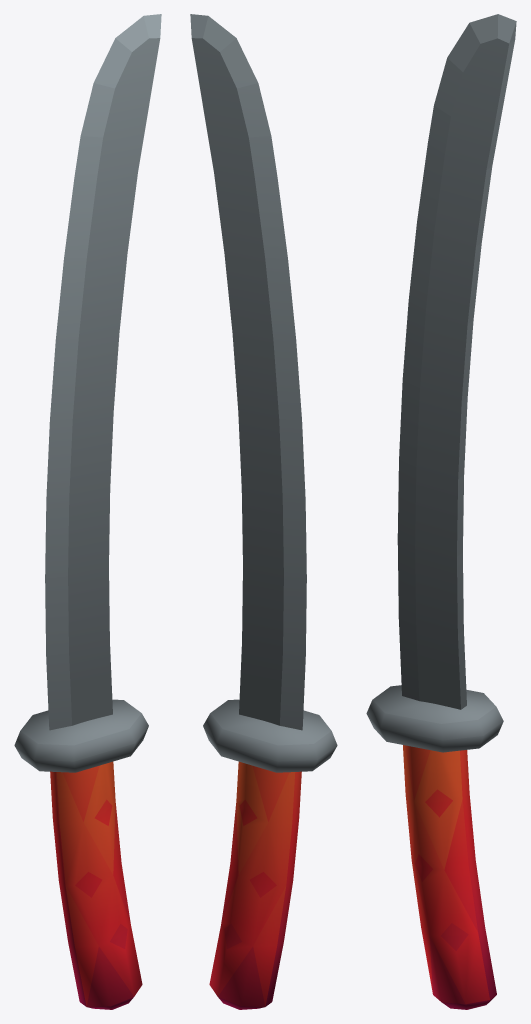
File: Ninja_Katana.obj
3 renders of one model, left to right at view 1: azimuth 30°, elevation 25°; view 2: azimuth 150°, elevation 25°; view 3: azimuth 330°, elevation 25°, orthographic.
Visible parts, largest first — view 1: Ninja_Katana; view 2: Ninja_Katana; view 3: Ninja_Katana.
Part boxes in pixels (left/top/right/bottom): Ninja_Katana: left=14, top=14, right=161, bottom=1009; Ninja_Katana: left=190, top=14, right=337, bottom=1009; Ninja_Katana: left=366, top=14, right=516, bottom=1009.
Size of the model in its own units: 0.2649 by 1.81 by 0.1536.
1 material, 1 textured.
